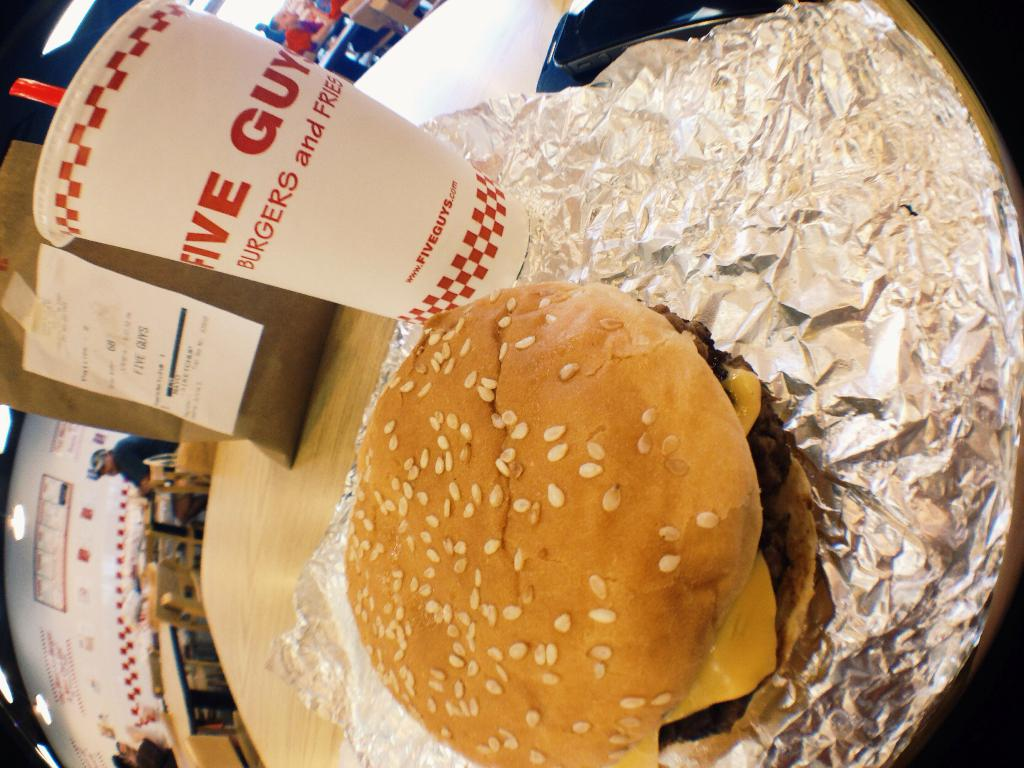Hamburger: (339, 283, 809, 767)
